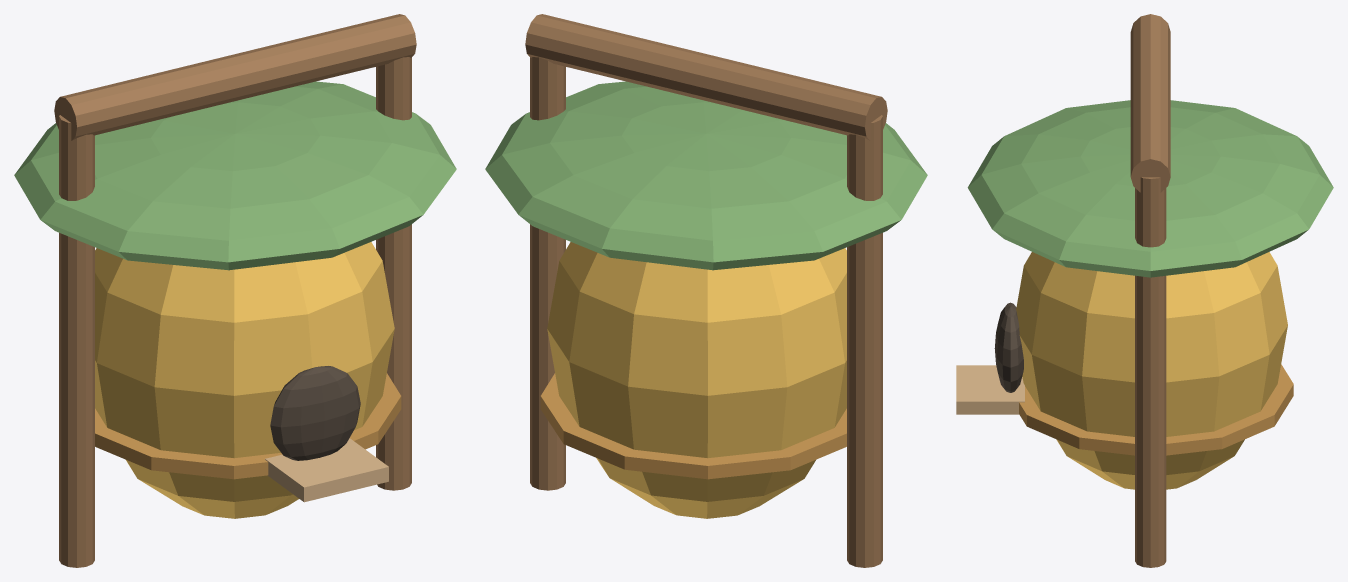
File: BeeLantern.fbx
3 views of the same model, side by side, from view 1: azimuth 30°, elevation 25°; view 2: azimuth 150°, elevation 25°; view 3: azimuth 270°, elevation 25° (orthographic). The views are drawn at different scales.
Visible parts, largest first — view 1: Honey roof, Honey lantern body, Hanging garden beam, Hanging garden post, Hanging garden post.001, Hive entrance, Amber honey band, Landing perch; view 2: Honey lantern body, Honey roof, Hanging garden beam, Hanging garden post, Hanging garden post.001, Amber honey band; view 3: Honey roof, Honey lantern body, Hanging garden post.001, Hanging garden beam, Amber honey band, Landing perch, Hive entrance.
Boxes of the visible parts, x1,y1,x2,y2 form: Honey roof: (14, 81, 456, 270); Honey lantern body: (95, 242, 394, 518); Hanging garden beam: (54, 14, 416, 140); Hanging garden post: (59, 115, 94, 567); Hanging garden post.001: (376, 57, 411, 490); Hive entrance: (270, 366, 360, 460); Amber honey band: (95, 373, 401, 479); Landing perch: (265, 438, 388, 502); Honey lantern body: (547, 242, 846, 518); Honey roof: (485, 81, 927, 270); Hanging garden beam: (525, 14, 887, 140); Hanging garden post: (847, 115, 882, 567); Hanging garden post.001: (530, 57, 565, 490); Amber honey band: (540, 373, 846, 479); Honey roof: (967, 100, 1333, 277); Honey lantern body: (1016, 252, 1287, 489); Hanging garden post.001: (1135, 177, 1166, 567); Hanging garden beam: (1130, 14, 1170, 192); Amber honey band: (1019, 364, 1293, 455); Landing perch: (956, 365, 1024, 414); Hive entrance: (994, 302, 1023, 392).
Size of the model in its own units: 138 by 157 by 132.
